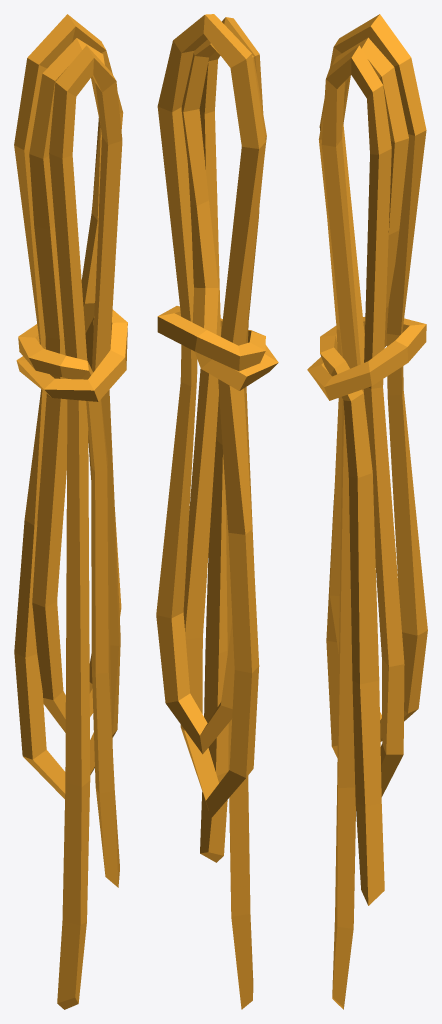
File: SM_Rope_Hang_C.fbx
3 views of the same model, side by side, from view 1: azimuth 30°, elevation 25°; view 2: azimuth 150°, elevation 25°; view 3: azimuth 330°, elevation 25° (orthographic). The views are drawn at different scales.
Parts seen in each view (by area): view 1: rope-hang-c; view 2: rope-hang-c; view 3: rope-hang-c.
Boxes of the visible parts, x1,y1,x2,y2 form: rope-hang-c: [14, 14, 127, 1009]; rope-hang-c: [156, 14, 278, 1009]; rope-hang-c: [307, 14, 427, 1009].
Size of the model in its own units: 0.1305 by 1.21 by 0.1157.
